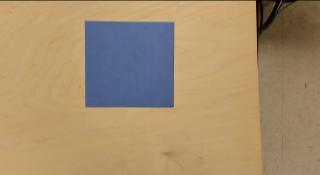Square: (85, 21, 174, 107)
